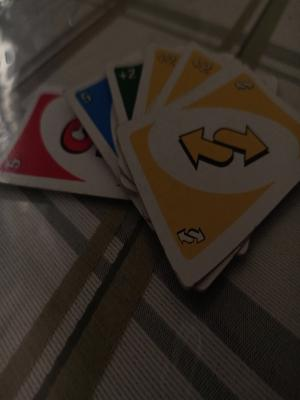reverse: (175, 222, 207, 251)
yellow: (142, 123, 288, 231)
